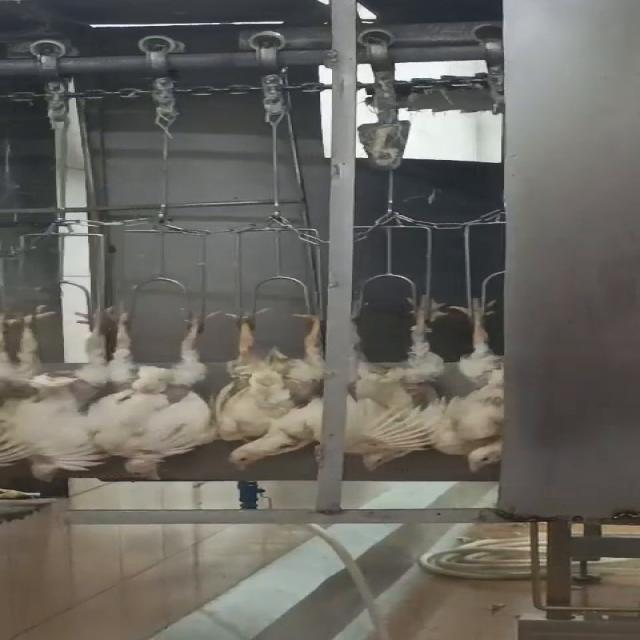chicken: (105, 298, 232, 484), (217, 296, 325, 474), (16, 296, 117, 484), (350, 288, 451, 474), (432, 290, 501, 472), (0, 304, 45, 482)
